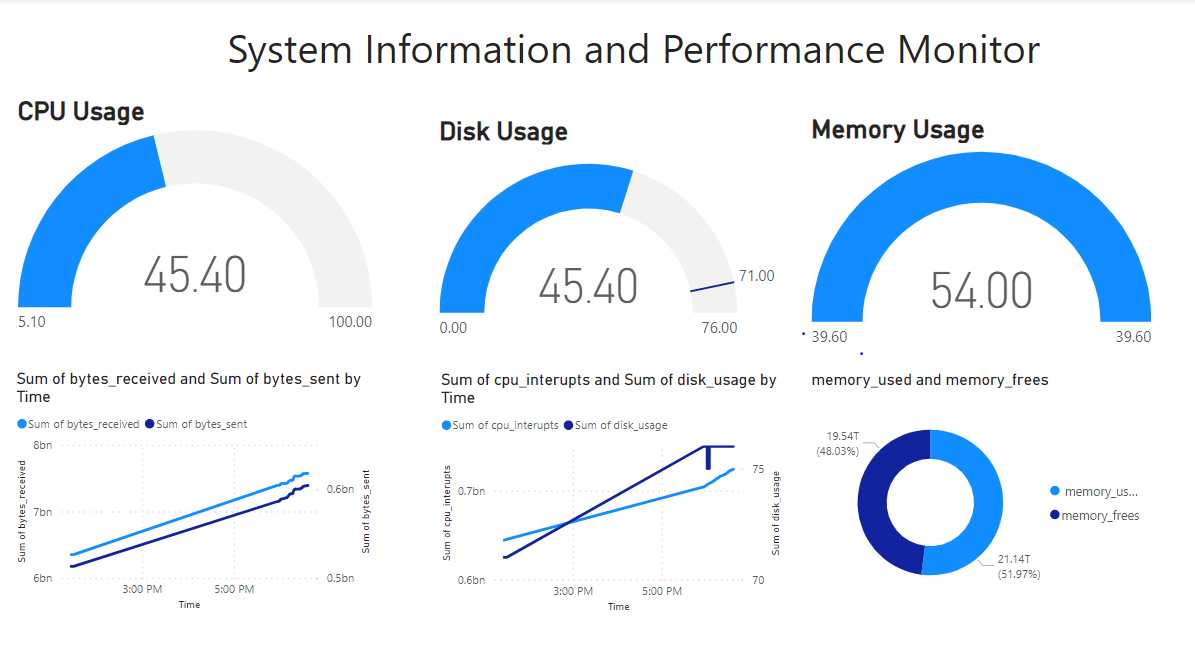

The dashboard page shown, as its layout file describes it:
{"tool":"powerbi","page":{"name":"Page 1","canvas":[1280,720],"ordinal":0},"visuals":[{"type":"textbox","box":[15.1,17,1251,117.2],"z":0},{"type":"gauge","title":"CPU Usage","fields":{"Y":["system_information performance.cpu_usage_latest"],"MinValue":["Min(system_information performance.cpu_usage)"],"MaxValue":["Max(system_information performance.cpu_usage)1"]},"box":[15.1,103.9,385.5,260.8],"z":1000},{"type":"gauge","title":"Memory Usage","fields":{"Y":["system_information performance.memory_usage_latest"],"MinValue":["Min(system_information performance.memory_usage)"],"MaxValue":["Min(system_information performance.memory_usage)"]},"box":[858,122.8,370.4,260.8],"z":2000},{"type":"gauge","title":"Disk Usage","fields":{"MaxValue":["Max(system_information performance.disk_usage)"],"Y":["system_information performance.cpu_usage_latest"],"TargetValue":["Min(system_information performance.disk_usage)"]},"box":[463.5,123.4,370.4,260.8],"z":3000},{"type":"lineChart","fields":{"Category":["system_information performance.Time"],"Y":["Sum(system_information performance.bytes_received)"],"Y2":["Sum(system_information performance.bytes_sent)"]},"box":[15,393.5,386,261],"z":4000},{"type":"lineChart","fields":{"Category":["system_information performance.Time"],"Y":["Sum(system_information performance.cpu_interupts)"],"Y2":["Sum(system_information performance.disk_usage)"]},"box":[464,394,370,261],"z":5000},{"type":"donutChart","fields":{"Y":["Sum(system_information performance.memory_used)","Sum(system_information performance.memory_frees)"]},"box":[858,394,370,261],"z":6000}]}

Visuals, with their boxes in screenshot pixels (x1, y1, x2, y2), scaled from the page's 1280x720 canvas onto the 1195x671 screenshot:
textbox: left=14, top=16, right=1182, bottom=125
"CPU Usage" gauge: left=14, top=97, right=374, bottom=340
"Memory Usage" gauge: left=801, top=114, right=1147, bottom=357
"Disk Usage" gauge: left=433, top=115, right=779, bottom=358
lineChart - system_information performance.Time x Sum(system_information performance.bytes_received): left=14, top=367, right=374, bottom=610
lineChart - system_information performance.Time x Sum(system_information performance.cpu_interupts): left=433, top=367, right=779, bottom=610
donutChart - Sum(system_information performance.memory_used) x Sum(system_information performance.memory_frees): left=801, top=367, right=1146, bottom=610
